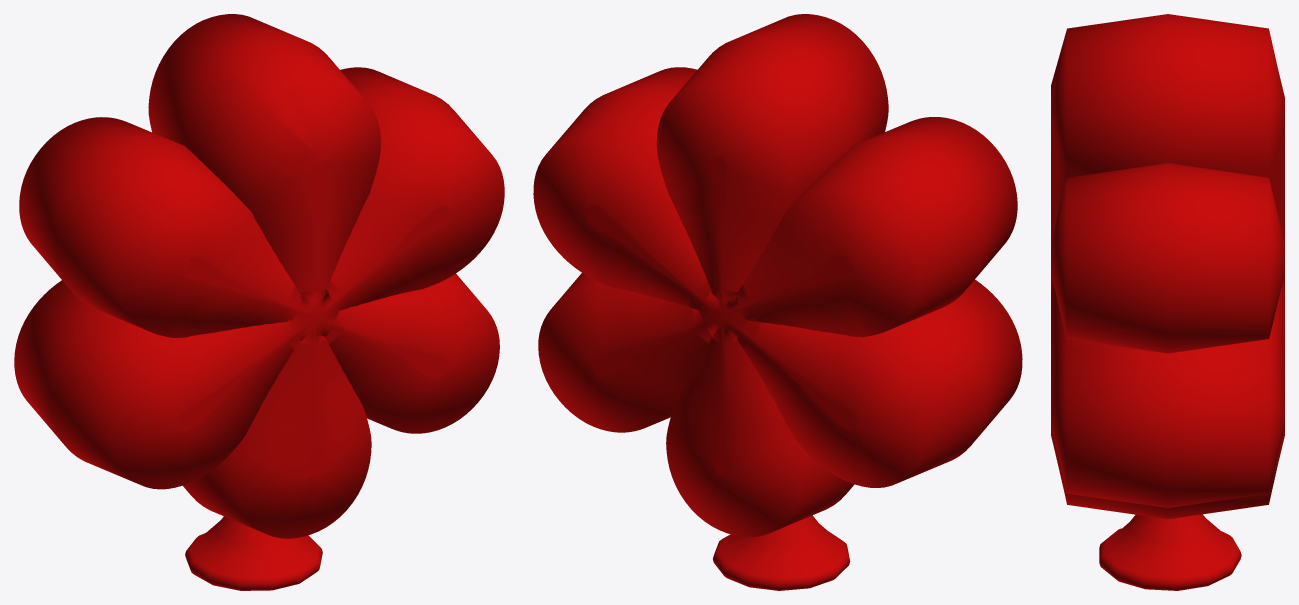
Rendered from ymnogenie.FBX.
The picture shows the model from 3 angles, left to right: view 1: azimuth 30°, elevation 25°; view 2: azimuth 150°, elevation 25°; view 3: azimuth 270°, elevation 25°; orthographic projection. The views are drawn at different scales.
Parts seen in each view (by area): view 1: Text030; view 2: Text030; view 3: Text030.
Part boxes in pixels (x1,y1,x2,y2): Text030: (14, 14, 504, 590); Text030: (533, 14, 1022, 590); Text030: (1051, 14, 1284, 590).
Size of the model in its own units: 38.64 by 46.37 by 18.02.
